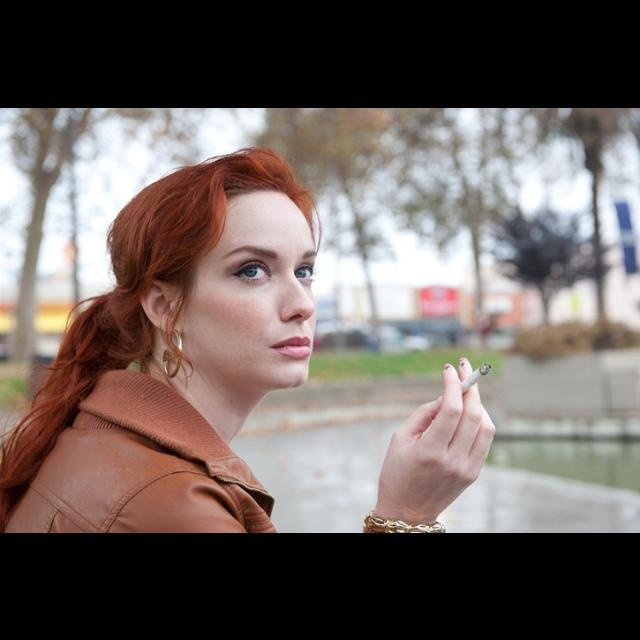rokok: (460, 360, 490, 394)
